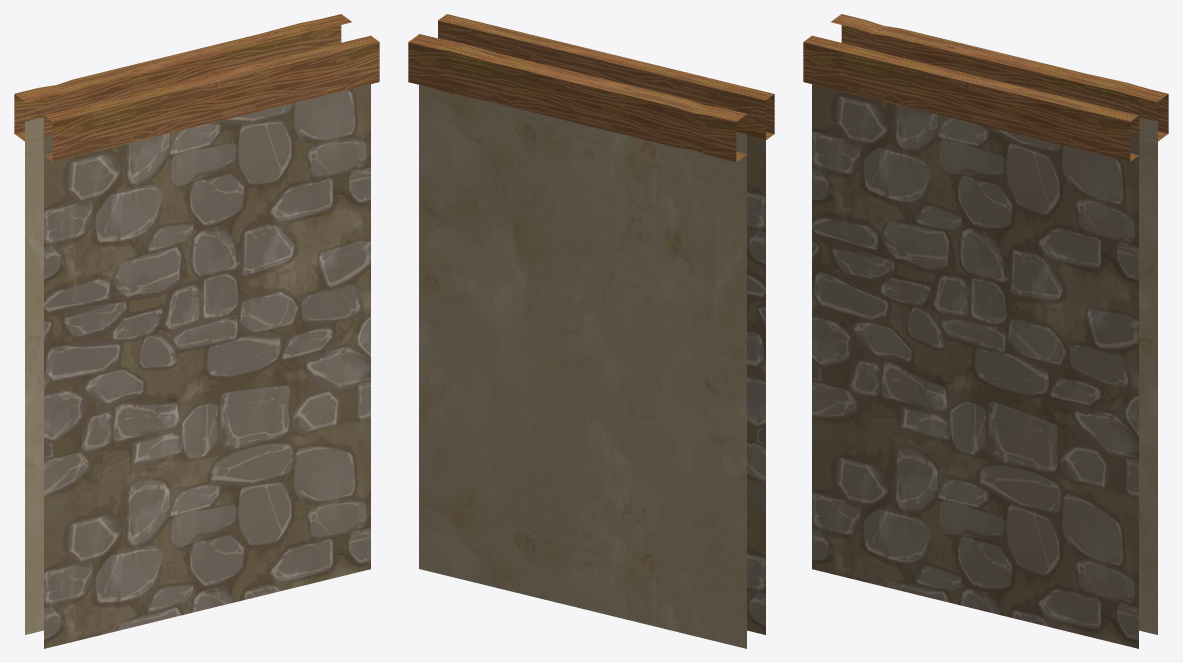
File: Wall_UnevenBrick_Straight.gltf
3 renders of one model, left to right at view 1: azimuth 30°, elevation 25°; view 2: azimuth 150°, elevation 25°; view 3: azimuth 330°, elevation 25°, orthographic.
Parts seen in each view (by area): view 1: Wall_UnevenBrick_Straight; view 2: Wall_UnevenBrick_Straight; view 3: Wall_UnevenBrick_Straight.
Part boxes in pixels (x1=…): Wall_UnevenBrick_Straight: x1=14, y1=14, x2=379, y2=648; Wall_UnevenBrick_Straight: x1=408, y1=14, x2=774, y2=648; Wall_UnevenBrick_Straight: x1=803, y1=14, x2=1168, y2=648.
Bounding box in the file's own units: 2 × 3.12 × 0.4065.
3 materials, 3 textured.
